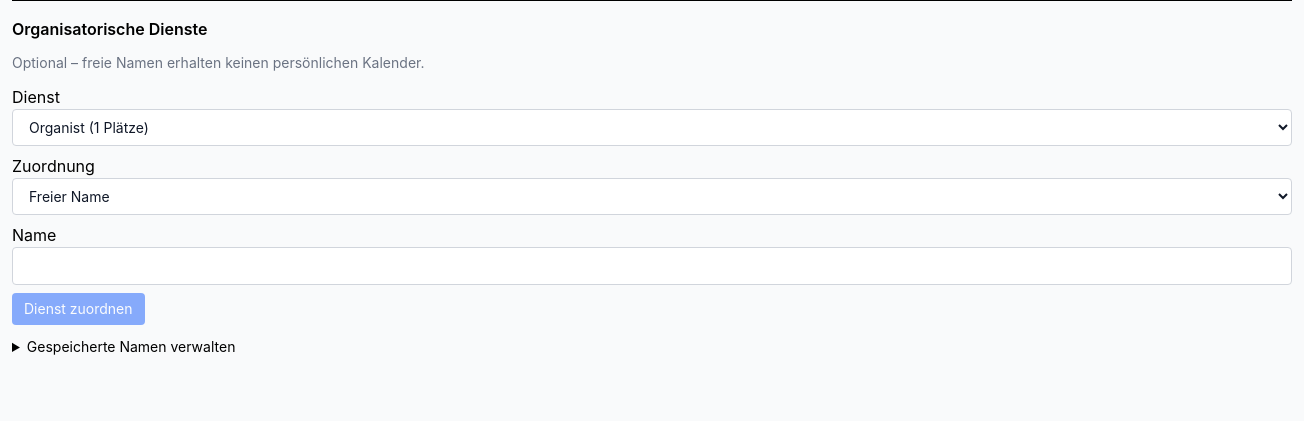
shows a blocking overlap between a duty and a service of the leader
Step 1. Select "Amtsträger" in the dropdown with test id "identity-kind" → (652, 196), box [12,178,1292,215]
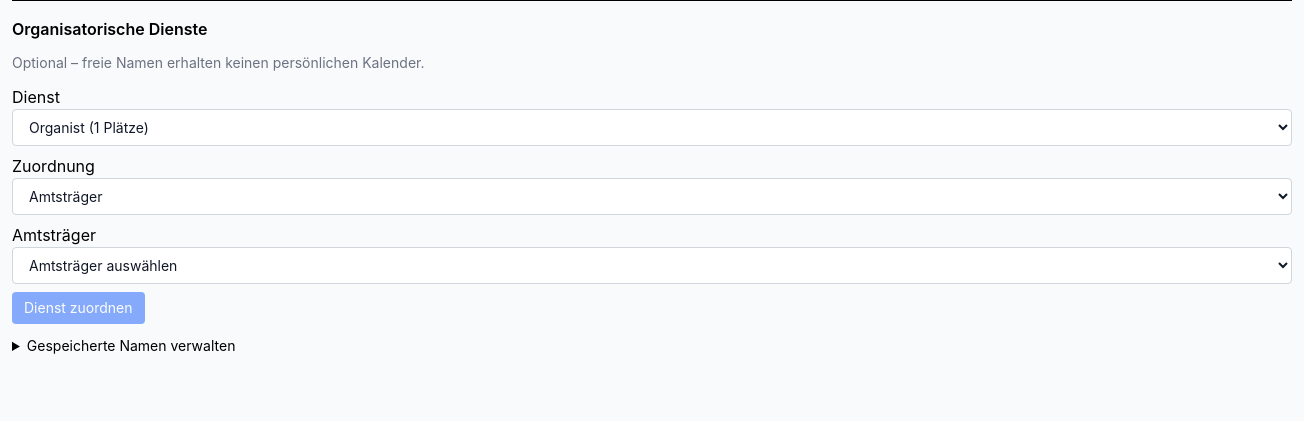
Step 2. Select "Anna Beispiel" in the dropdown with test id "duty-leader" → (652, 266), box [12,247,1292,284]
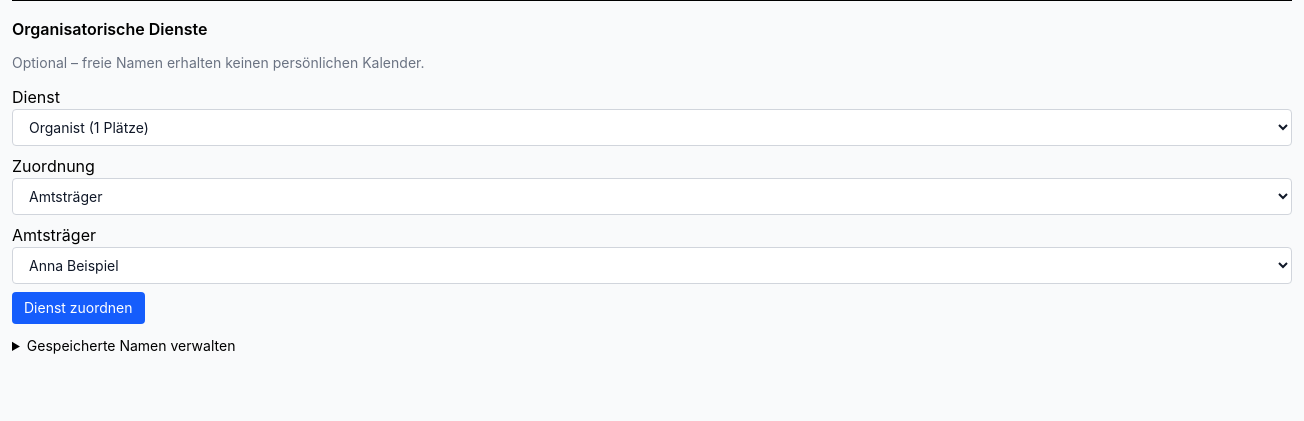
Step 3. Submit the form, box [12,85,1292,324]
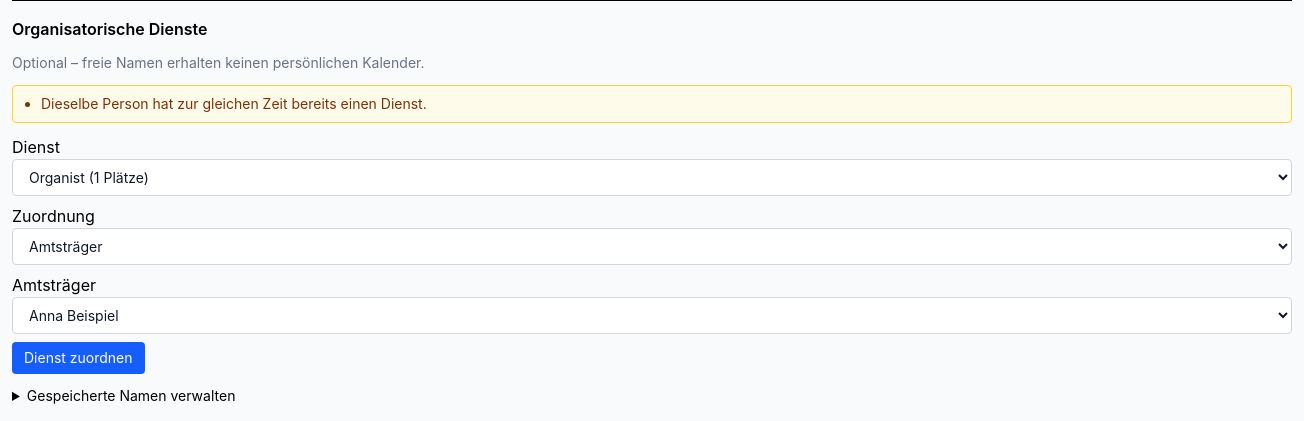
Now the message with test id "duty-conflict" shows "bereits einen Dienst", box [41,95,427,112]
